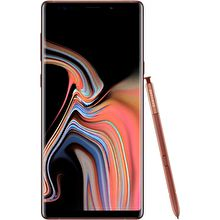phone: (36, 1, 148, 220)
